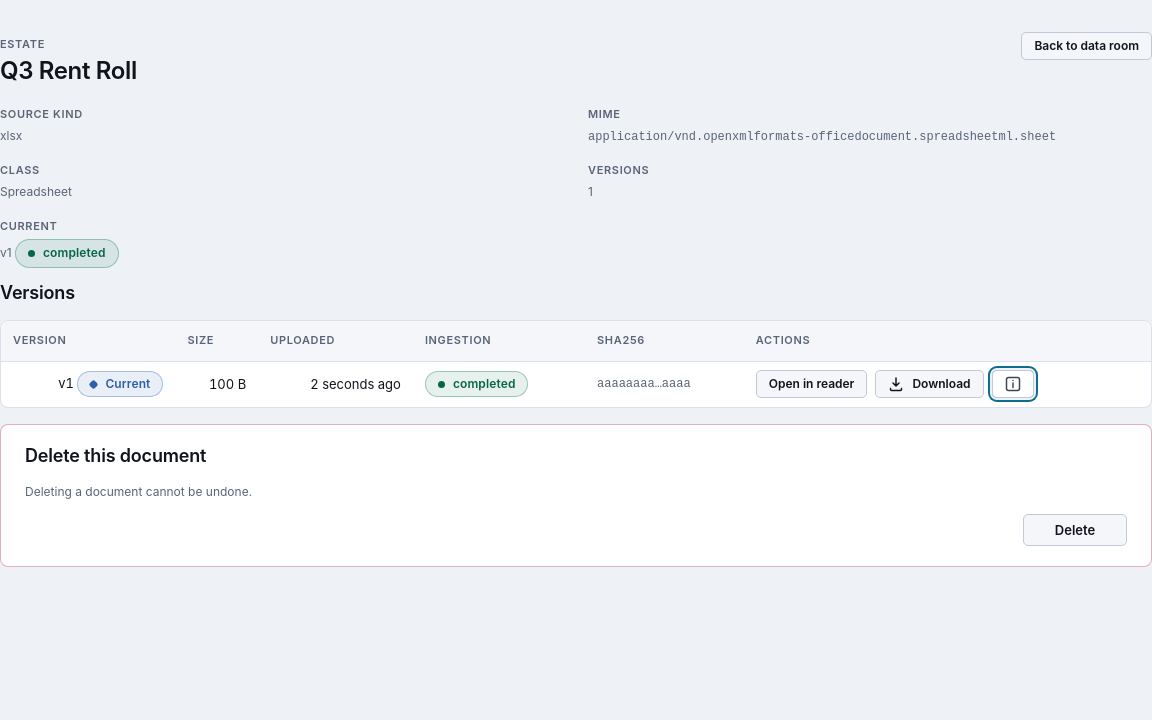
Scenario: DocumentDetail › opens a version details drawer exposing the full sha256, from a keyboard-reachable control
The image size is (1152, 720).
What coordinates should you click on to do the following:
click the button named "Version 1 details, Q3 Rent Roll"
I would click on:
 (1012, 384)
Its box is [992,370,1034,398].
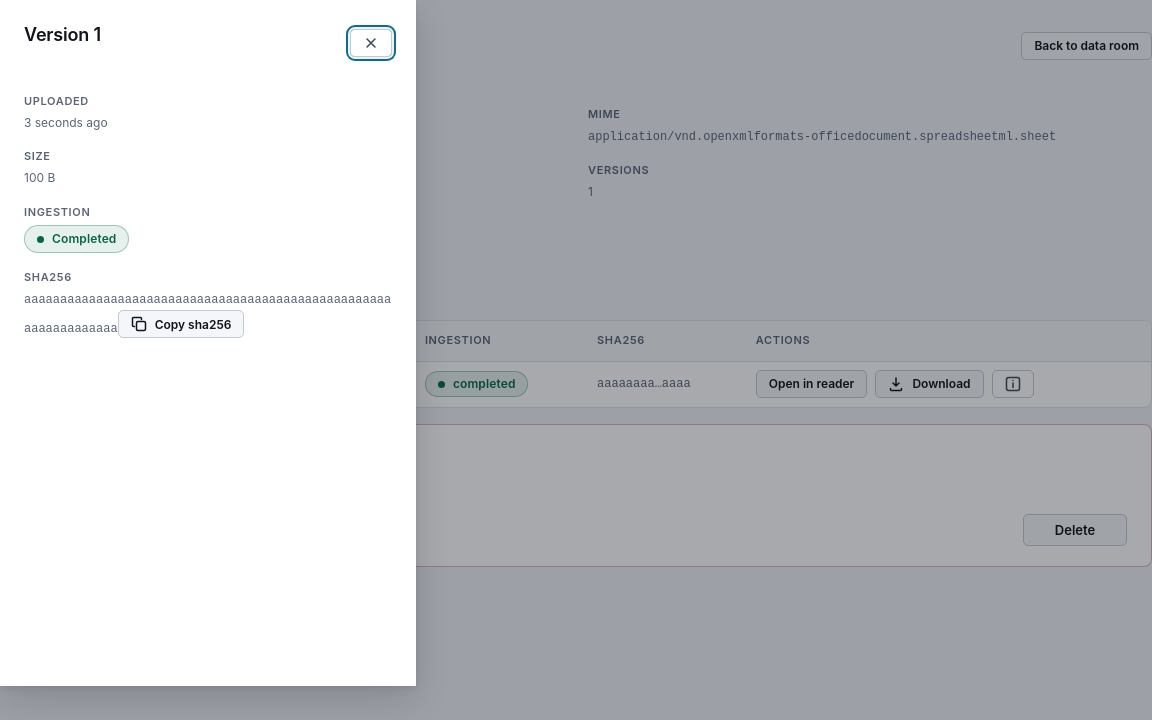
Check: the dialog "Version 1" is shown, box [0,0,416,686]
Check: the text "aaaaaaaaaaaaaaaaaaaaaaaaaaaaaaaaaaaaaaaaaaaaaaaaaaaaaaaaaaaaaaaa" is shown, box [24,294,391,336]
